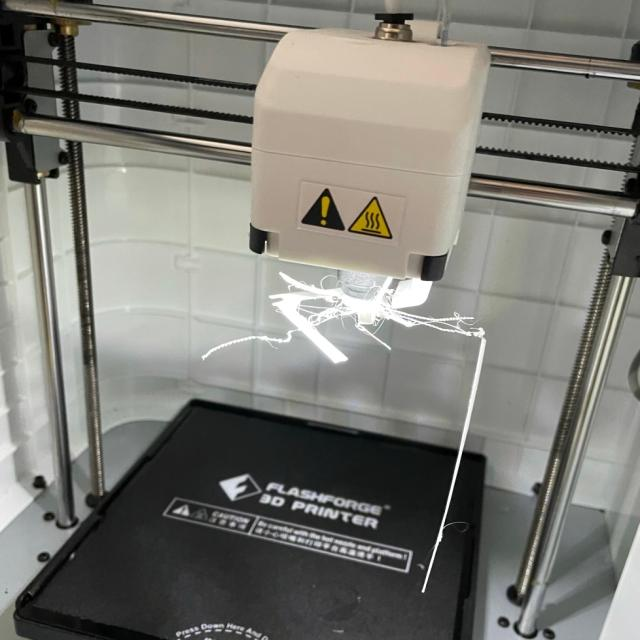Spaghetti: (271, 269, 480, 342)
